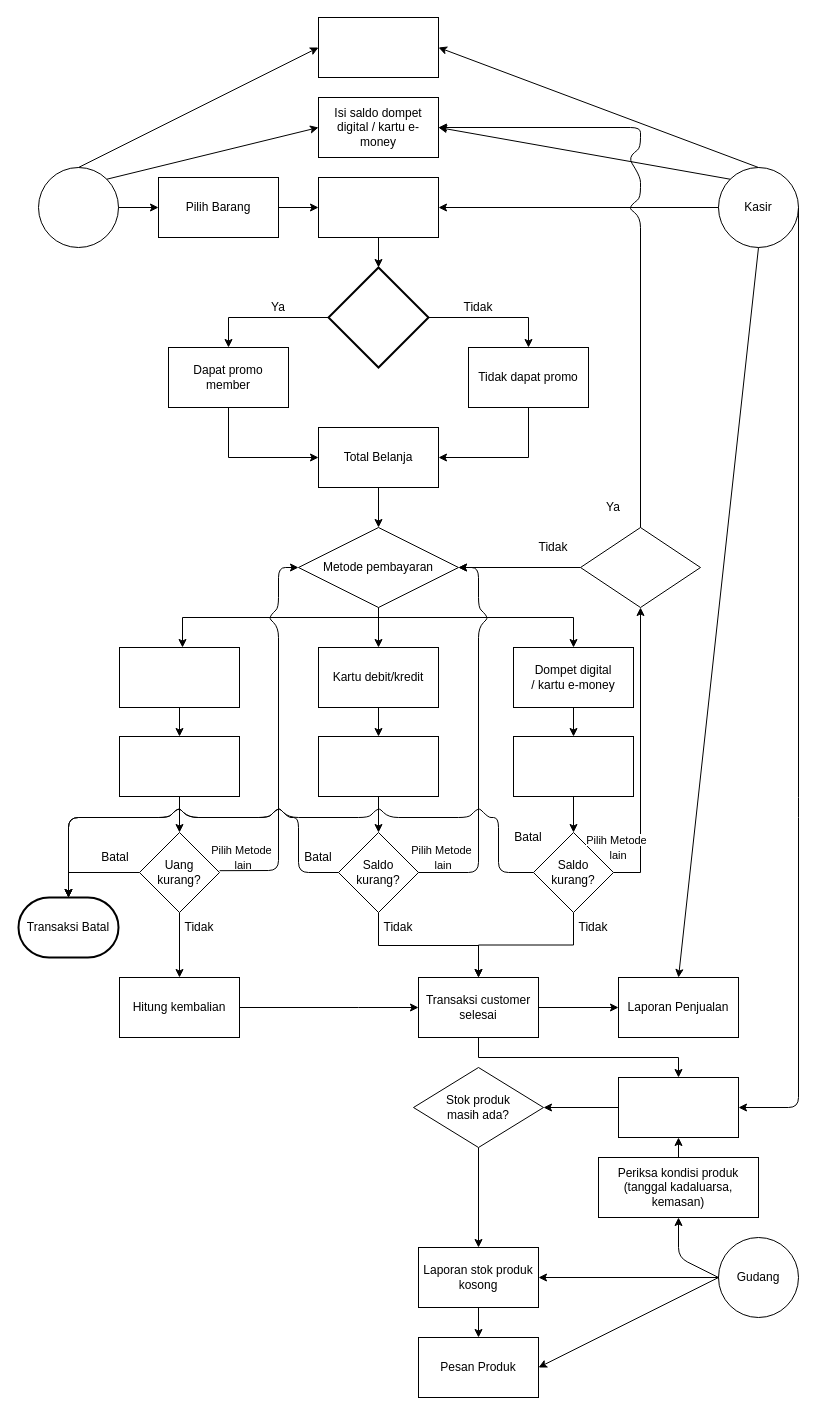
The diagram is 824 pixels wide and 1415 high, and some of its shapes have lost their labels. Here are the shapes that lost their labels. From the top down, the centre of each, then its label:
At [378,47]: "Pembayaran taguhan elektronik".
At [78,207]: "Customer".
At [378,207]: "Hitung Total Belanjaan".
At [378,317]: "Apakah member?".
At [640,567]: "Tetap gunakan metode ini?".
At [179,677]: "Tunai".
At [179,766]: "Hitung total uang".
At [378,766]: "Masukkan Pin".
At [573,766]: "Scan QRcode / tap kartu".
At [678,1107]: "Update stok produk".
